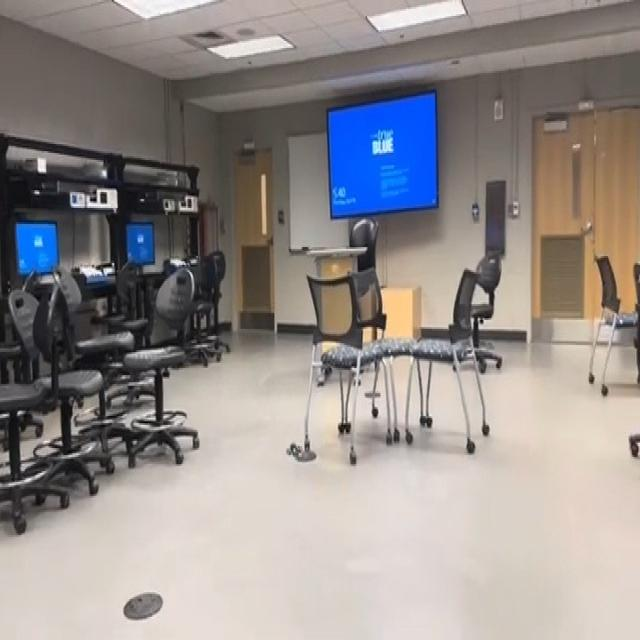drone: (276, 419, 313, 476)
